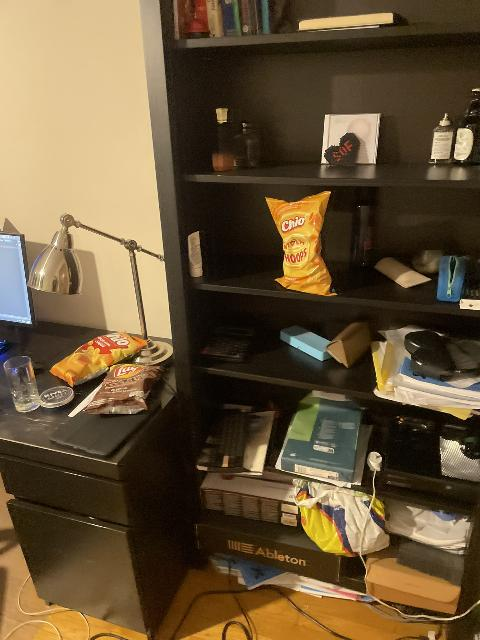Chio Cascaval 125g: (48, 332, 151, 387)
Chio Hula Hoops Cheese 70g: (268, 191, 338, 295)
Lays Beef Grilled Ribs 125g: (73, 363, 164, 414)
